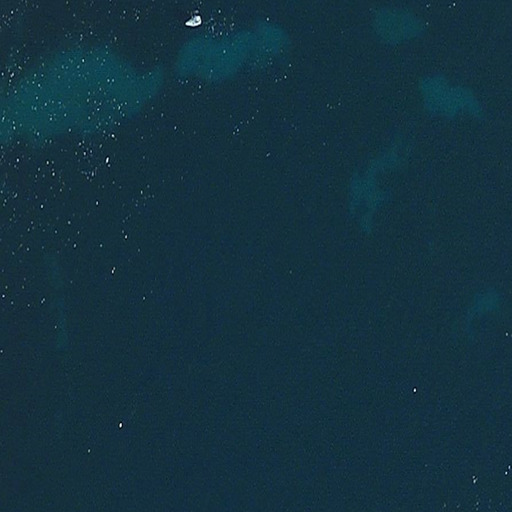ship: (183, 13, 202, 29)
